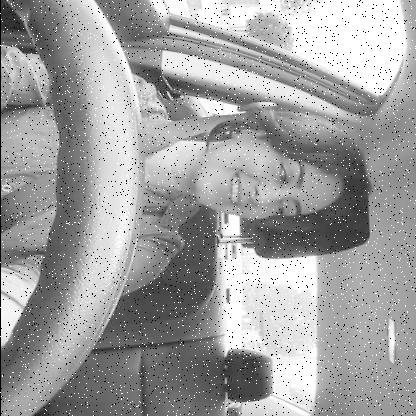seatbelt: (0, 97, 374, 243)
